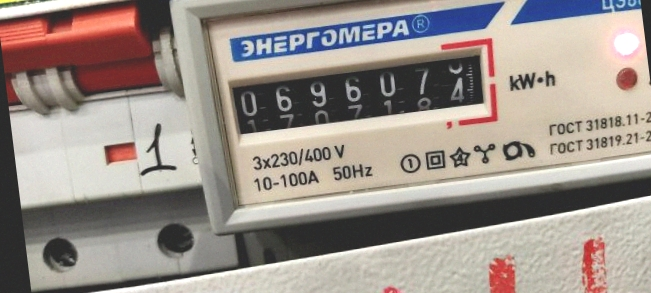0: (237, 86, 260, 118), (376, 66, 399, 98)
4: (445, 74, 467, 104)
6: (270, 81, 296, 113), (342, 72, 364, 102)
7: (411, 63, 432, 95)
9: (307, 78, 329, 109)
screen: (210, 30, 503, 154)
